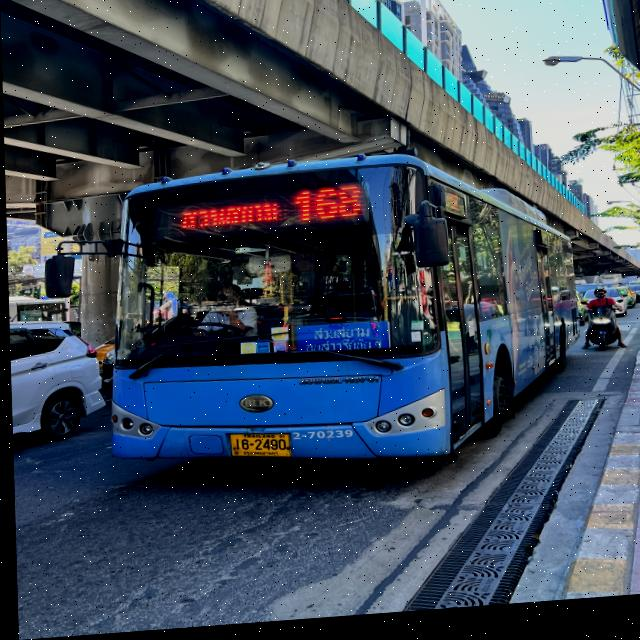BMTA-bus: (105, 159, 579, 468)
Bus Line Number: (288, 185, 370, 232)
Bus Side Number: (289, 429, 359, 448)
Destination Sign: (294, 327, 388, 360)
